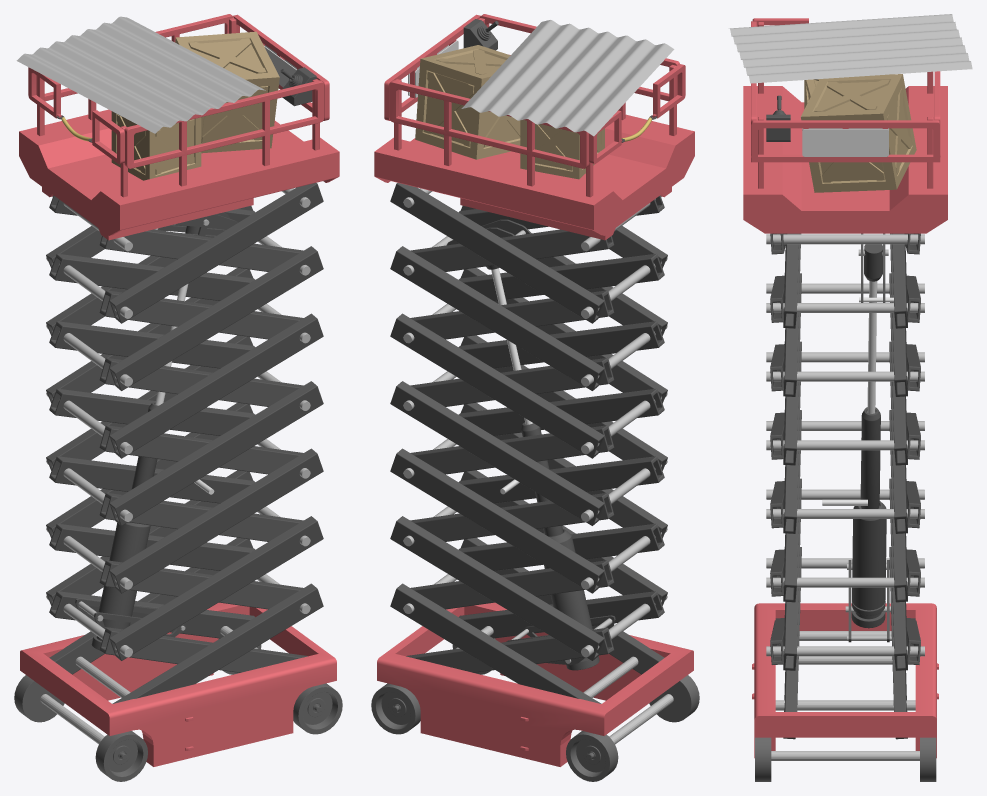
File: ScissorLift.fbx
3 views of the same model, side by side, from view 1: azimuth 30°, elevation 25°; view 2: azimuth 150°, elevation 25°; view 3: azimuth 270°, elevation 25° (orthographic).
Parts seen in each view (by area): view 1: Cube.011, Cube.114, Cube.012, Cube.010, Plane.004, Whole Crate.003, Cylinder.065, Cylinder.000, Cube.113, Slice.009, Cylinder.066, Whole Crate.004 (+9 smaller); view 2: Cube.011, Cube.114, Cube.012, Cube.010, Plane.004, Whole Crate.003, Cylinder.065, Cylinder.000, Cube.113, Slice.009, Cylinder.066, Whole Crate.004 (+8 smaller); view 3: Cube.012, Cube.114, Cylinder.065, Plane.004, Cube.010, Whole Crate.003, Cube.011, Cylinder.066, Cube.115, Plane.035, Cylinder.062, Cylinder.064 (+5 smaller).
Boxes of the visible parts, x1,y1,x2,y2 form: Cube.011: (46,183,323,703); Cube.114: (49,195,307,672); Cube.012: (19,109,339,235); Cube.010: (20,602,336,766); Plane.004: (16,16,265,133); Whole Crate.003: (175,31,279,153); Cylinder.065: (46,188,310,657); Cylinder.000: (14,638,342,781); Cube.113: (36,14,324,186); Slice.009: (190,690,277,756); Cylinder.066: (91,226,199,650); Whole Crate.004: (111,111,201,180); Cube.011: (390,183,667,703); Cube.114: (406,195,664,672); Cube.012: (374,114,694,235); Cube.010: (377,602,693,766); Plane.004: (461,20,674,136); Whole Crate.003: (415,45,520,159); Cylinder.065: (403,188,667,657); Cylinder.000: (371,638,699,781); Cube.113: (389,14,679,186); Slice.009: (436,690,523,756); Cylinder.066: (486,265,599,670); Whole Crate.004: (520,120,604,179); Cube.012: (743,86,947,233); Cube.114: (783,233,907,739); Cylinder.065: (766,234,924,656); Plane.004: (729,14,972,83); Cube.010: (752,603,938,758); Whole Crate.003: (801,74,916,192); Cube.011: (770,233,920,664); Cylinder.066: (851,244,886,628); Cube.115: (751,120,939,162); Plane.035: (802,129,888,156); Cylinder.062: (771,656,919,760); Cylinder.064: (775,631,915,710).
Size of the model in its own units: 1249 by 3307 by 1090.
